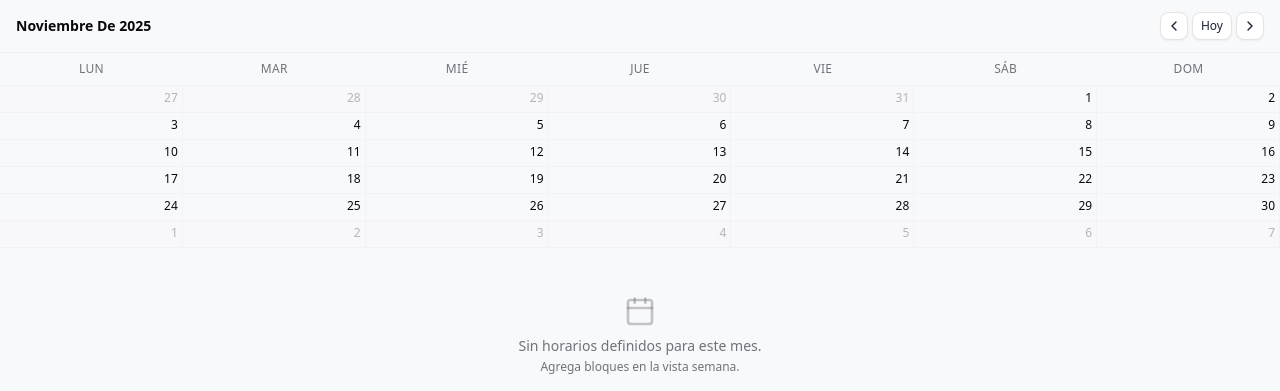
Test case: MonthCalendar — navigation › clicking prev updates month label to previous month
Click the button with test id "month-nav-prev": [1174, 26] box [1160,12,1188,40]
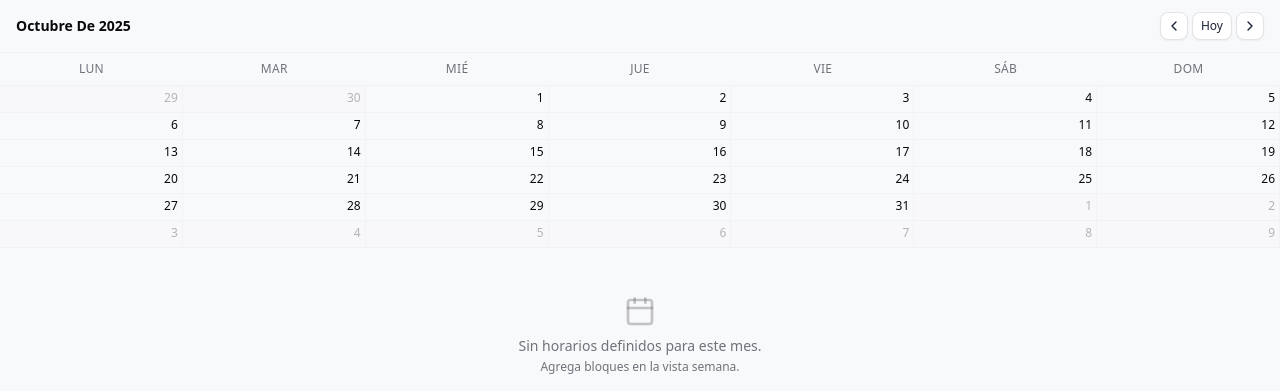
Result: the text with test id "month-label" shows "octubre" at [16,16,131,35]
